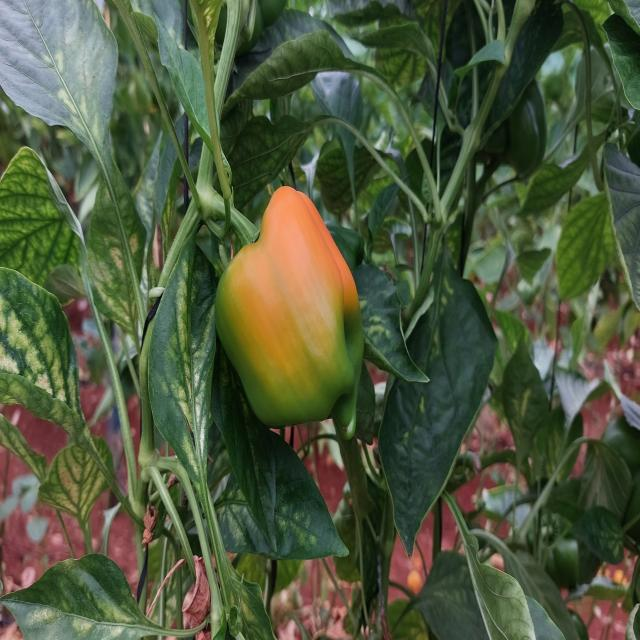GreenishYellow--Can-be-Harvested: (186, 180, 394, 480)
